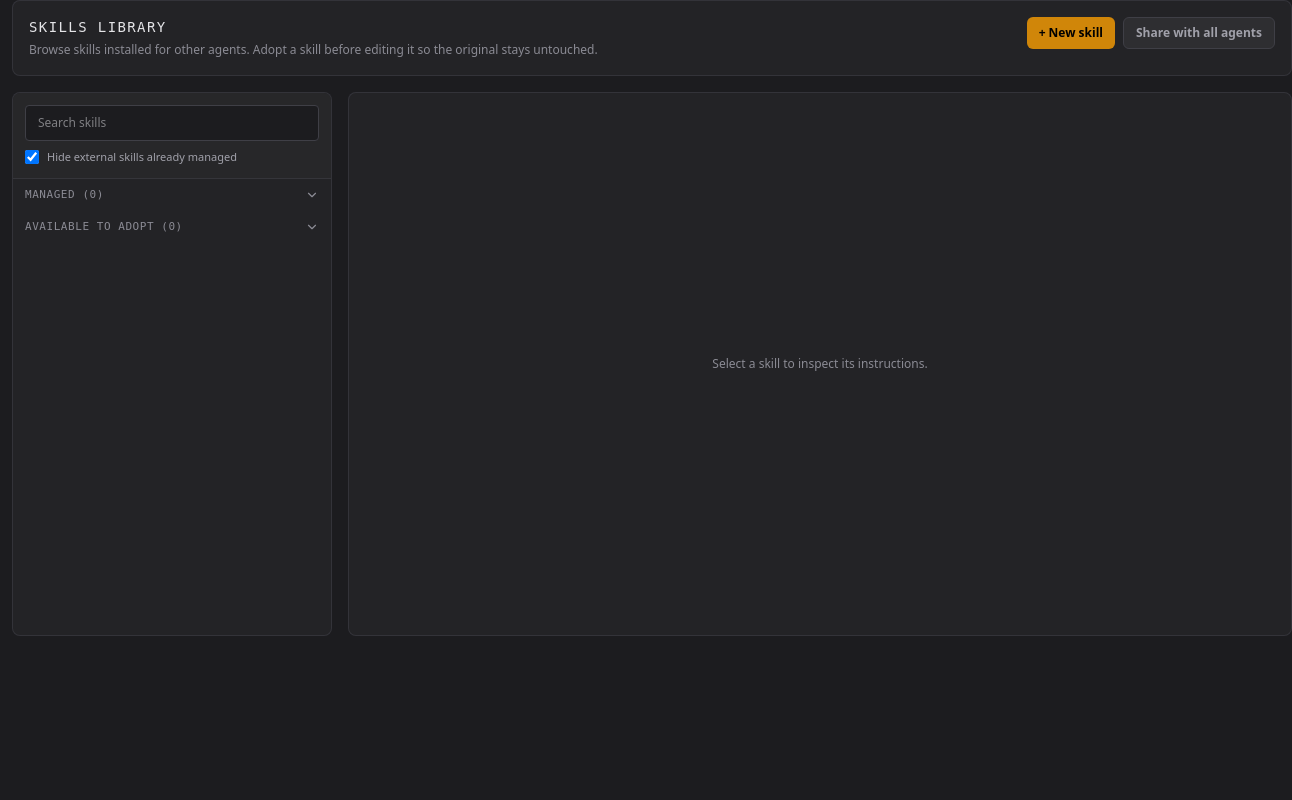
Test: SkillsManager › replaces a conflicting row on request, re-issuing sync scoped to that root and directory
Click the button "Share with all agents".
click(1199, 33)  # box [1123,17,1275,49]
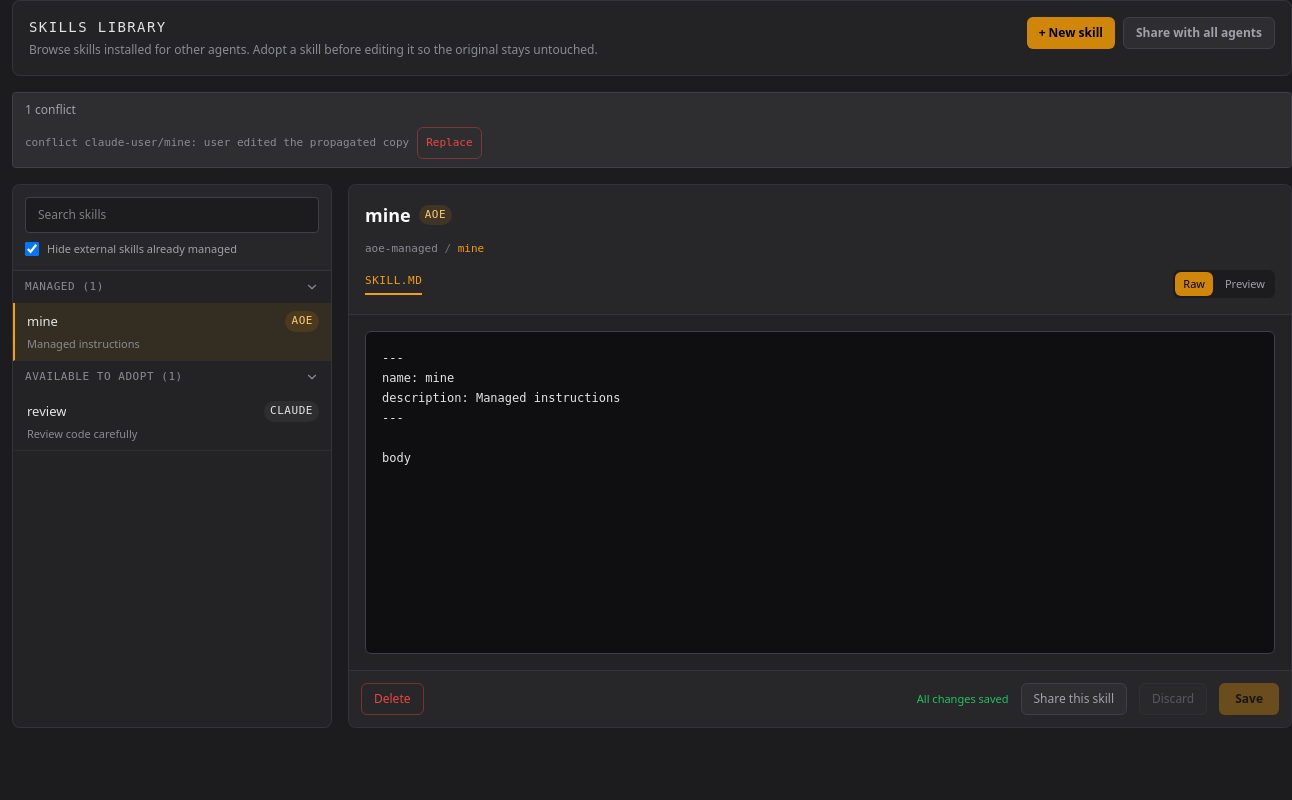
Click the button with aria-label "Replace mine in claude-user".
click(449, 143)  # box [417,127,482,159]
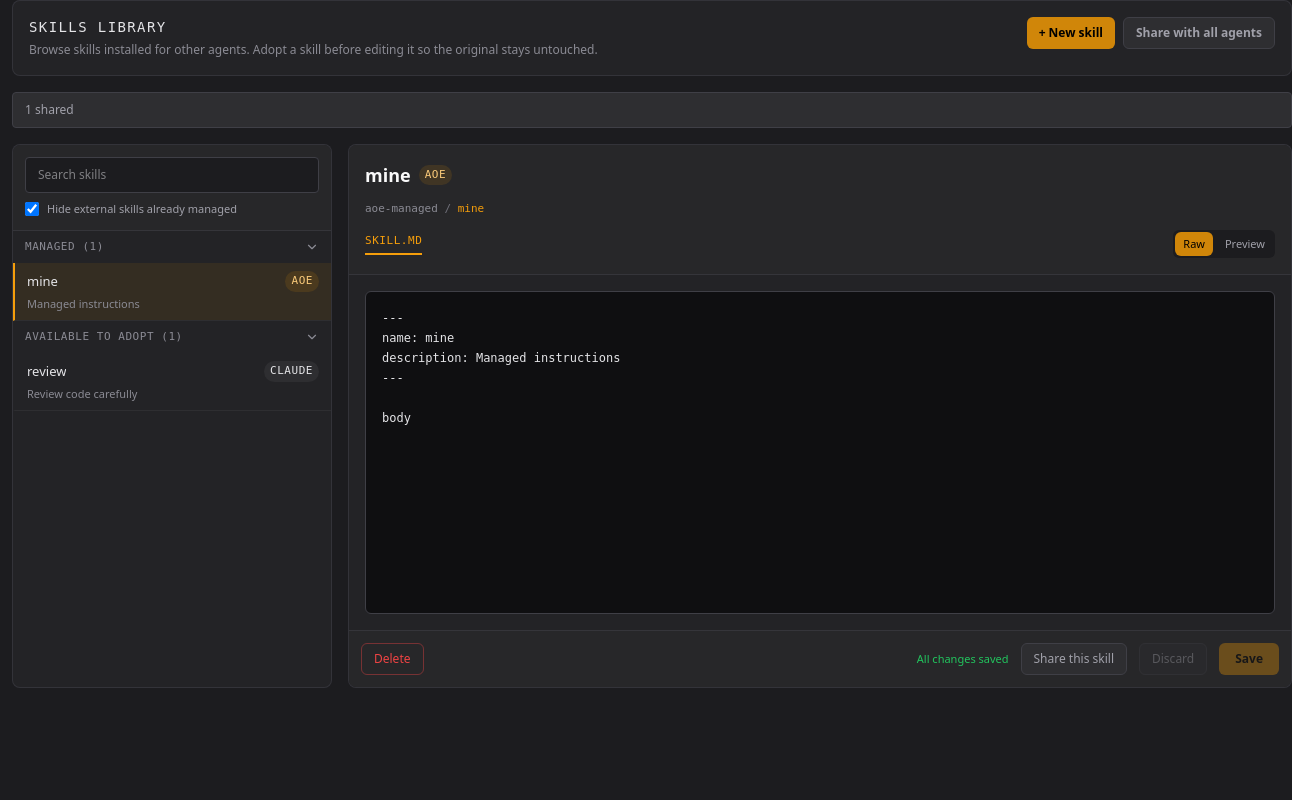
Expected: the text "1 shared" is shown, [25,101,74,118]
